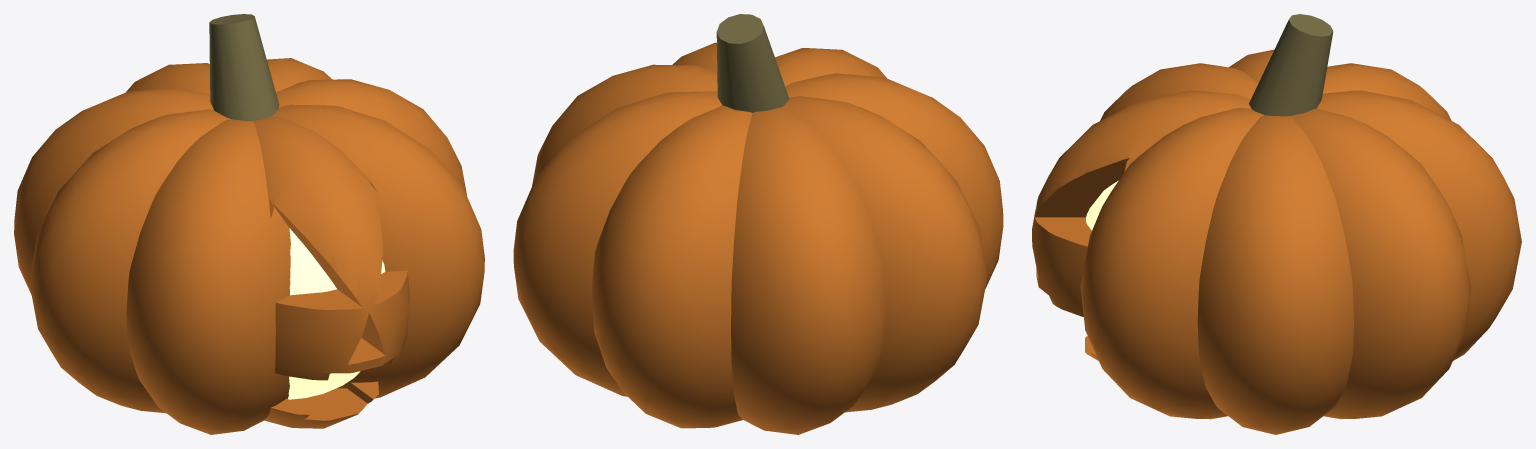
File: top_pumpkin.fbx
3 renders of one model, left to right at view 1: azimuth 30°, elevation 25°; view 2: azimuth 150°, elevation 25°; view 3: azimuth 270°, elevation 25°, orthographic. The views are drawn at different scales.
Visible parts, largest first — view 1: pumpkin_1, stalk_1, glow_flame_1; view 2: pumpkin_1, stalk_1; view 3: pumpkin_1, stalk_1.
Part boxes in pixels (x1,y1,x2,y2): pumpkin_1: (14,58,484,434); stalk_1: (209,14,279,120); glow_flame_1: (288,228,385,399); pumpkin_1: (513,42,1003,434); stalk_1: (716,14,789,112); pumpkin_1: (1032,49,1521,434); stalk_1: (1249,14,1333,116).
Size of the model in its own units: 0.0391 by 0.0322 by 0.039.
